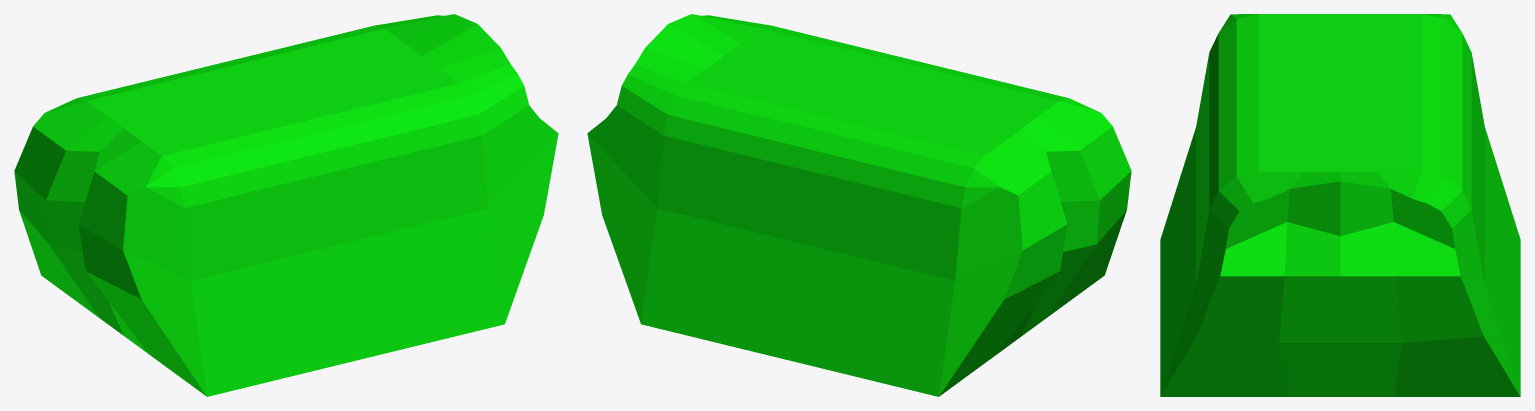
File: JellyMonster.fbx
3 renders of one model, left to right at view 1: azimuth 30°, elevation 25°; view 2: azimuth 150°, elevation 25°; view 3: azimuth 270°, elevation 25°, orthographic. The views are drawn at different scales.
Visible parts, largest first — view 1: Cube; view 2: Cube; view 3: Cube.
Part boxes in pixels (left/top/right/bottom): Cube: left=14, top=14, right=558, bottom=396; Cube: left=587, top=14, right=1131, bottom=396; Cube: left=1160, top=14, right=1520, bottom=396.
Bounding box in the file's own units: 444 × 218 × 290.
